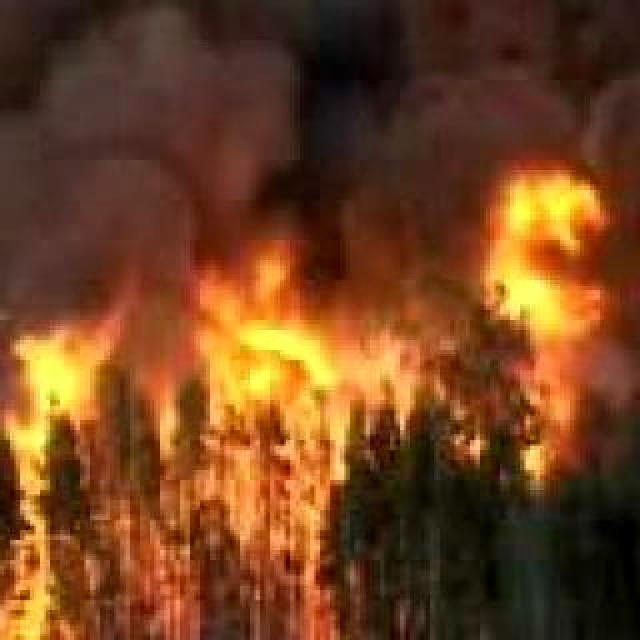fire: (0, 284, 370, 640), (472, 140, 626, 484)
